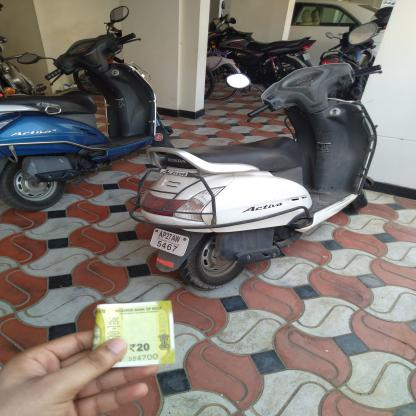New20Front: (96, 306, 172, 366)
